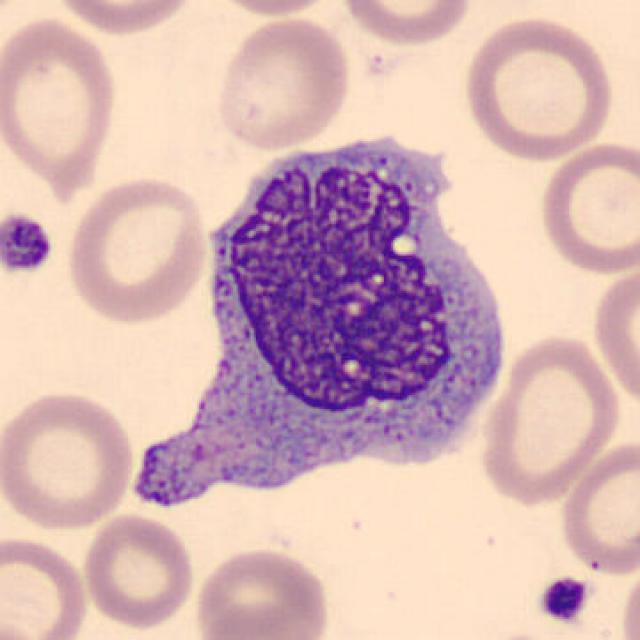Monocyte: (125, 116, 516, 512)
Platelets: (0, 210, 57, 277), (537, 573, 592, 624)
RBC: (475, 331, 624, 506), (457, 11, 617, 164), (60, 171, 212, 326), (0, 11, 123, 201), (0, 386, 139, 533), (212, 13, 354, 154), (534, 138, 638, 278), (78, 511, 198, 631), (190, 543, 332, 640), (556, 436, 640, 580), (0, 532, 92, 639), (588, 261, 640, 412), (334, 0, 475, 48), (48, 0, 201, 37), (194, 603, 311, 640), (201, 0, 347, 18), (618, 557, 640, 640), (0, 615, 48, 640)
